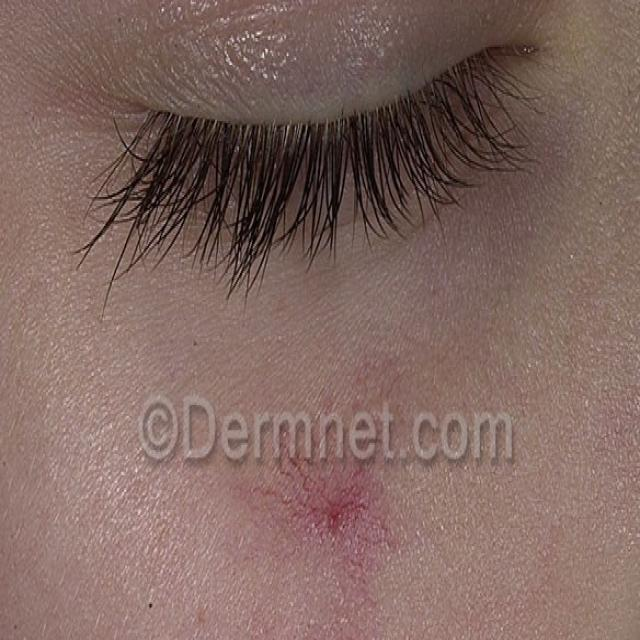Vascular Tumors: (283, 461, 394, 590)
